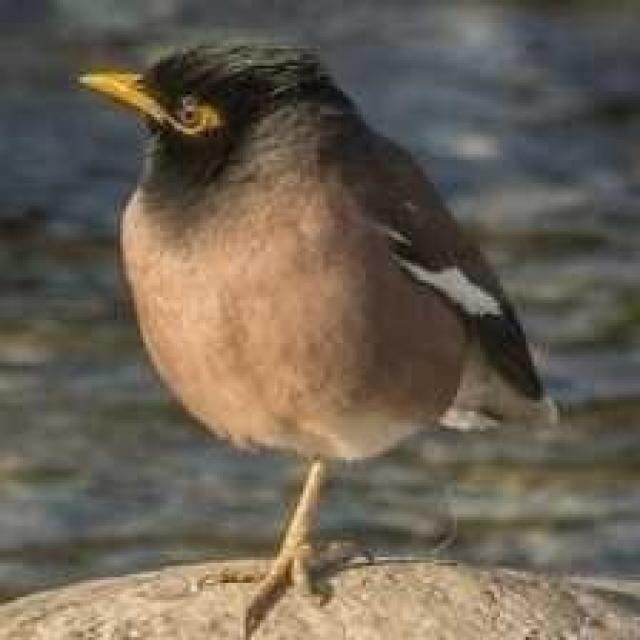bird: (62, 14, 560, 640)
